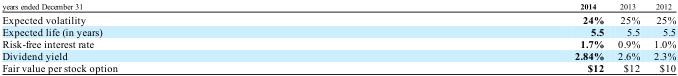table: (1, 1, 675, 72)
table column: (1, 1, 345, 72), (345, 1, 610, 72), (610, 1, 646, 72), (646, 1, 675, 72)
table column header: (1, 1, 675, 11)
table row: (1, 11, 675, 25), (1, 25, 675, 37), (1, 37, 675, 49), (1, 49, 675, 61), (1, 61, 675, 72), (1, 1, 675, 11)
